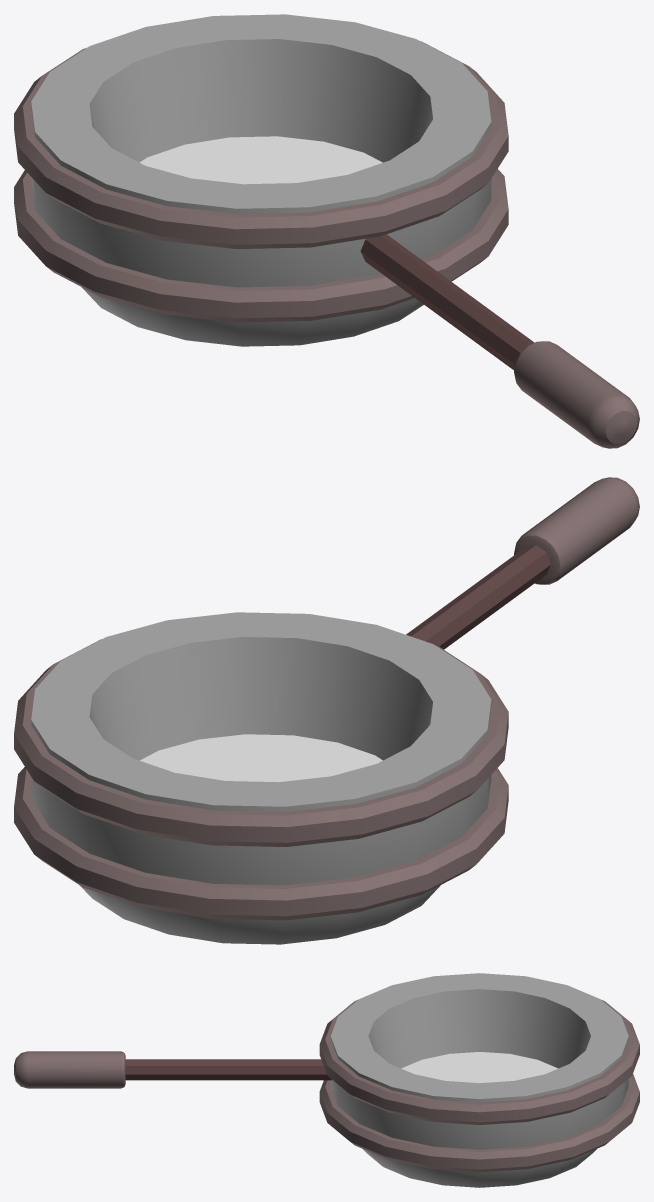
The model's file is IdentifyingPanOld.fbx.
3 renders of one model, top to bottom at view 1: azimuth 30°, elevation 25°; view 2: azimuth 150°, elevation 25°; view 3: azimuth 270°, elevation 25°, orthographic. The views are drawn at different scales.
Parts seen in each view (by area): view 1: IdentifyingPan; view 2: IdentifyingPan; view 3: IdentifyingPan.
Boxes of the visible parts, x1=… form: IdentifyingPan: x1=14, y1=14, x2=639, y2=448; IdentifyingPan: x1=14, y1=477, x2=639, y2=944; IdentifyingPan: x1=14, y1=973, x2=639, y2=1187.
Size of the model in its own units: 0.86 by 0.3 by 1.68.
